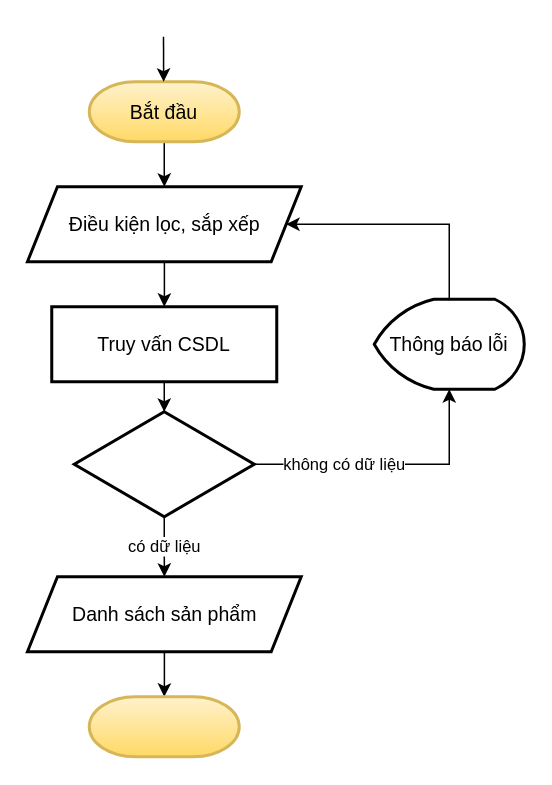
This 552x785 diagram has some shape labels left out. The centre of each missing label's shape, as x and y in pixels:
Kiểm tra dữ liệu: [163,464]
Kết thúc: [163,726]
